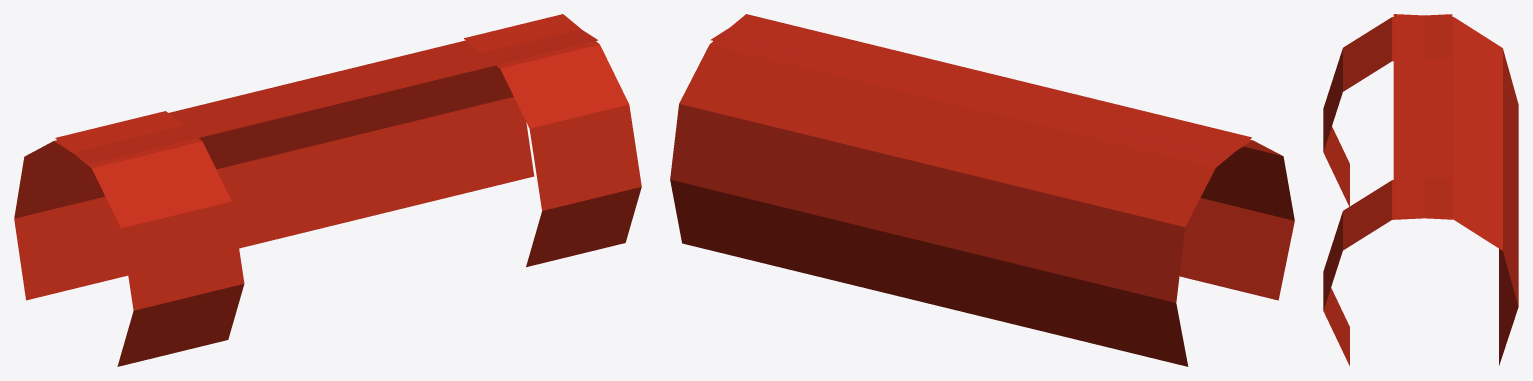
The model's file is shield.FBX.
3 views of the same model, side by side, from view 1: azimuth 30°, elevation 25°; view 2: azimuth 150°, elevation 25°; view 3: azimuth 270°, elevation 25° (orthographic). The views are drawn at different scales.
Visible parts, largest first — view 1: Object03; view 2: Object03; view 3: Object03.
Part boxes in pixels (left/top/right/bottom): Object03: left=14, top=14, right=641, bottom=366; Object03: left=670, top=14, right=1294, bottom=366; Object03: left=1323, top=14, right=1518, bottom=365.
Size of the model in its own units: 820 by 333 by 282.
1 material, 1 textured.
